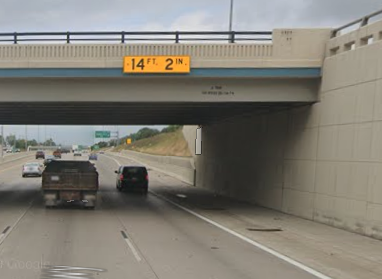1: (129, 56, 137, 73)
2: (163, 56, 175, 72)
4: (135, 57, 148, 72)
overheadsign: (124, 55, 190, 75)
